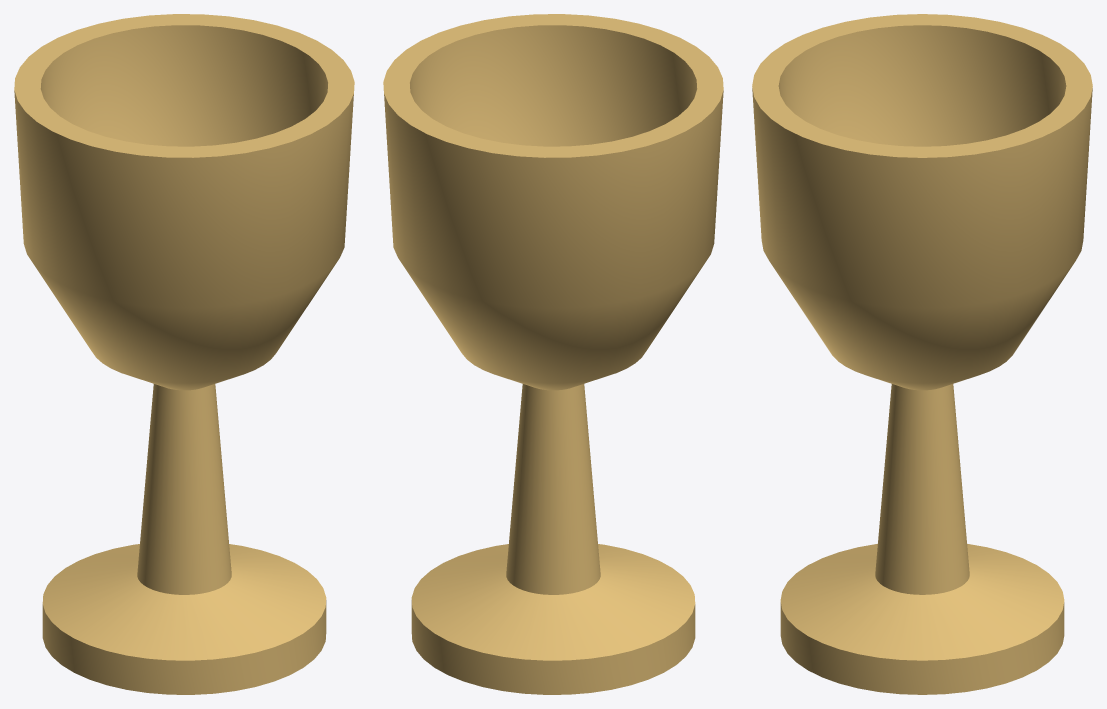
The model's file is royal-court-and-throne-palace-royal-goblet-23c03b3d__29408.glb.
3 renders of one model, left to right at view 1: azimuth 30°, elevation 25°; view 2: azimuth 150°, elevation 25°; view 3: azimuth 270°, elevation 25°, orthographic.
Parts seen in each view (by area): view 1: royal-goblet; view 2: royal-goblet; view 3: royal-goblet.
Part boxes in pixels (x1,y1,x2,y2): royal-goblet: [14, 14, 354, 694]; royal-goblet: [383, 14, 723, 694]; royal-goblet: [752, 14, 1092, 694].
Size of the model in its own units: 0.18 by 0.32 by 0.18.
